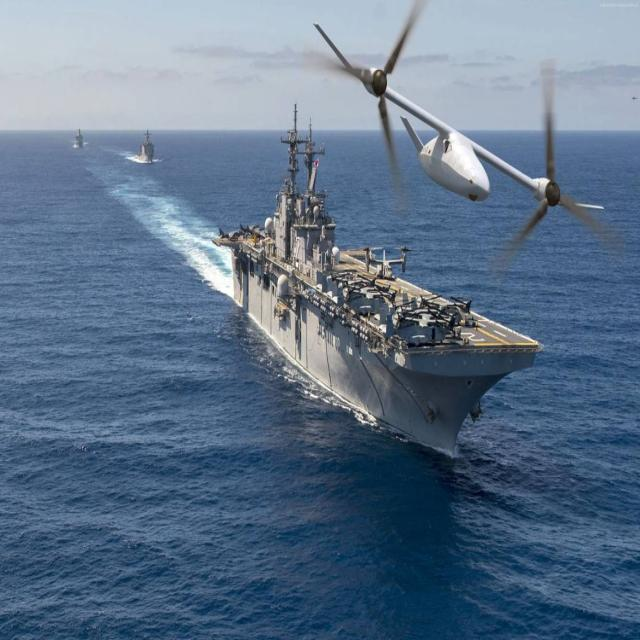navalvessels: (224, 106, 536, 477), (128, 117, 156, 171), (72, 121, 86, 158)
